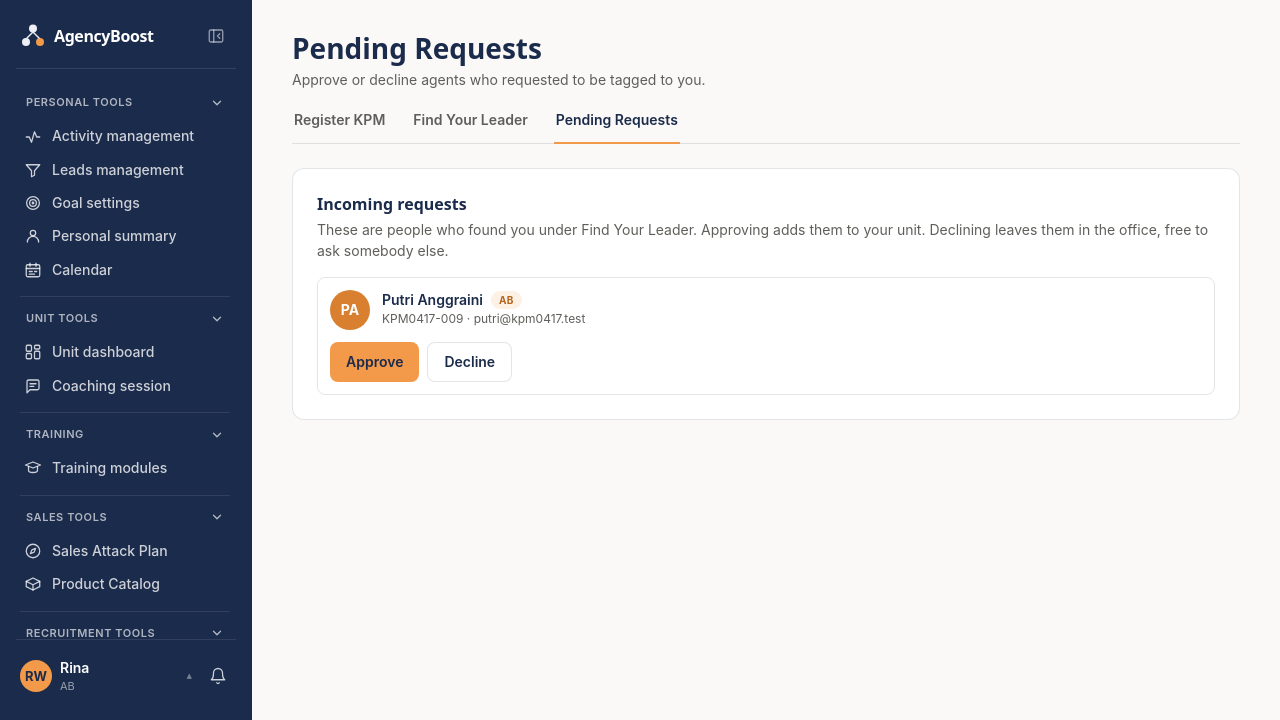
it: the approval inbox (P3-T5) › P13.2 exit review: an approval at the leader limit is said in the limit’s words, never the code
Click the button "Approve" at (375, 362), box [330,342,419,382]
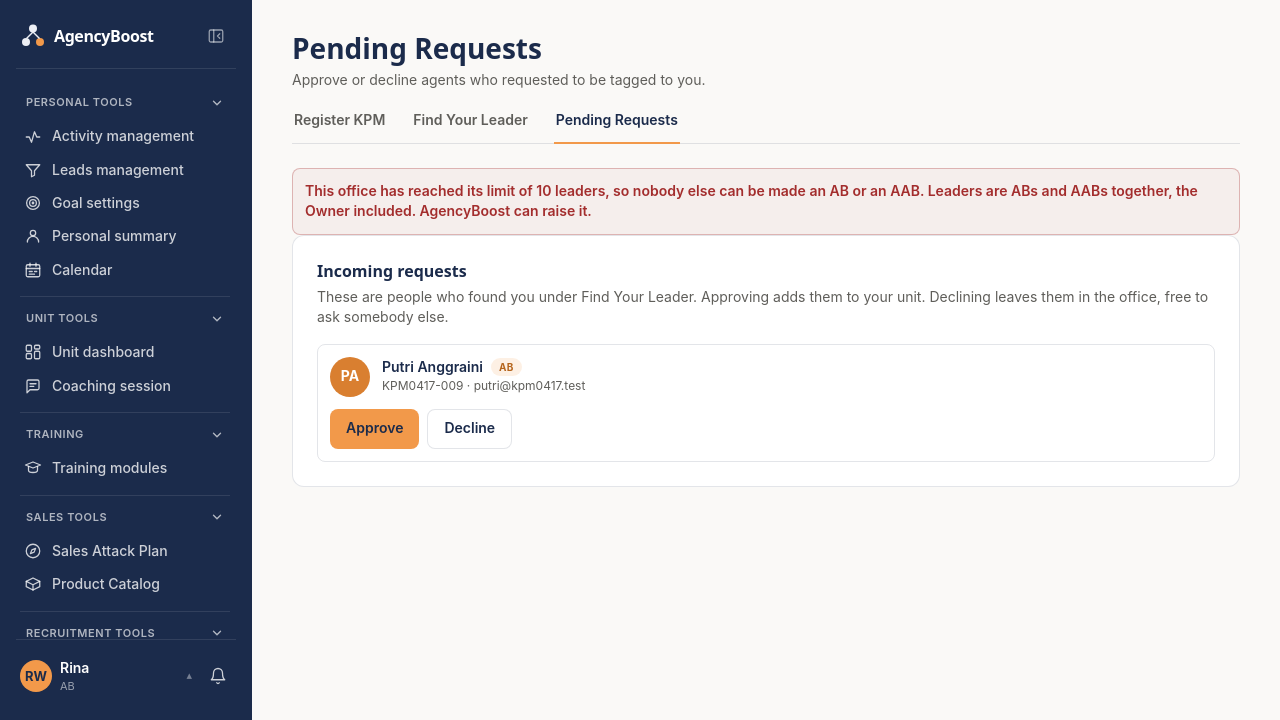
Expected: the message does not show "LEADER_LIMIT_REACHED", [292,168,1240,235]
Now the message shows "This office has reached its limit of 10 leaders, so nobody else can be made an AB or an AAB.", box [305,182,1198,220]
Now the message shows "AgencyBoost can raise it.", box [305,182,1198,220]
